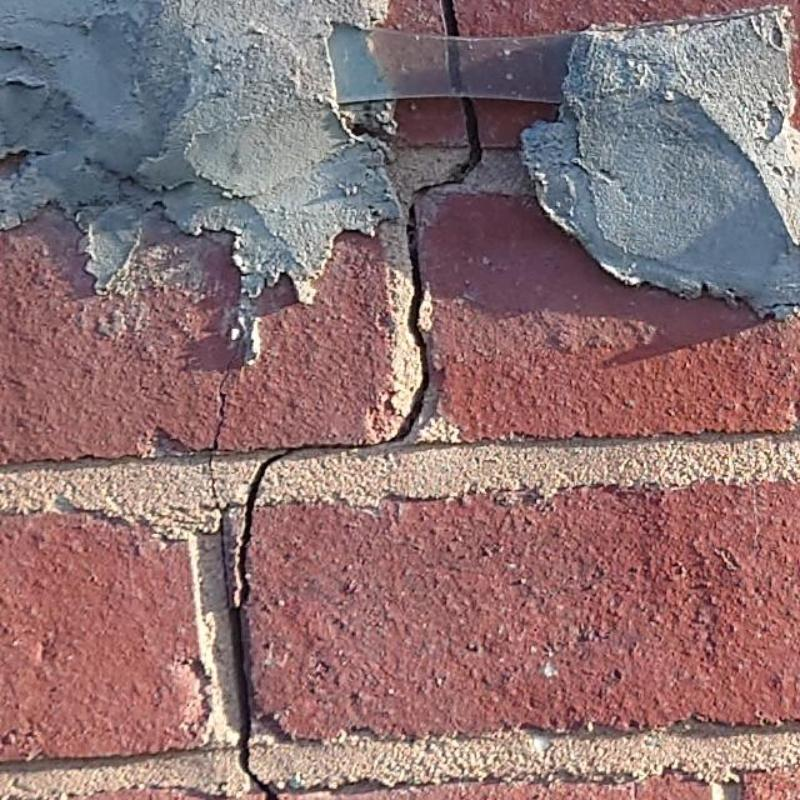pothole: (232, 441, 387, 799), (383, 170, 467, 444), (208, 352, 236, 619), (441, 0, 481, 169)
